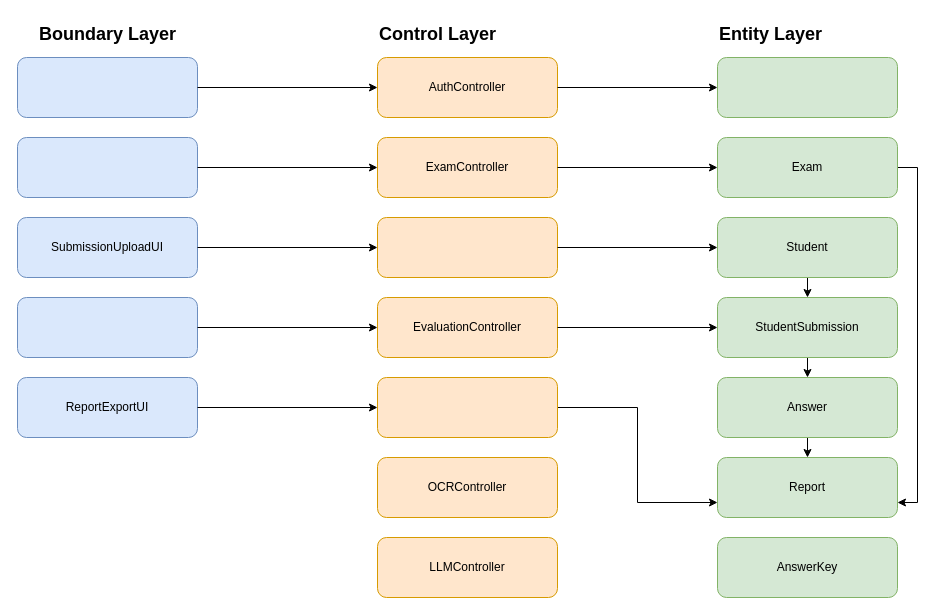
Some shapes in this 943 by 615 pixel diagram are drawn without their labels. Here are the shapes that lost their labels. From the top down, the centre of each, then its label:
[107,87]: LoginUI / AuthUI
[807,87]: Teacher
[107,167]: ExamSetupUI
[467,247]: SubmissionController
[107,327]: ResultDashboardUI
[467,407]: ReportController
